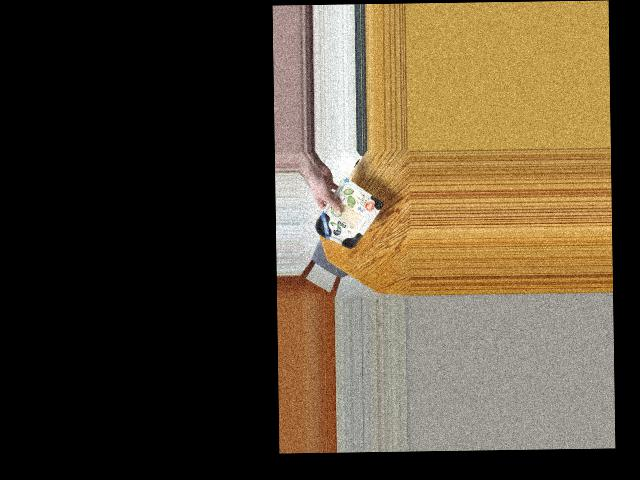cheese: (310, 188, 379, 246)
